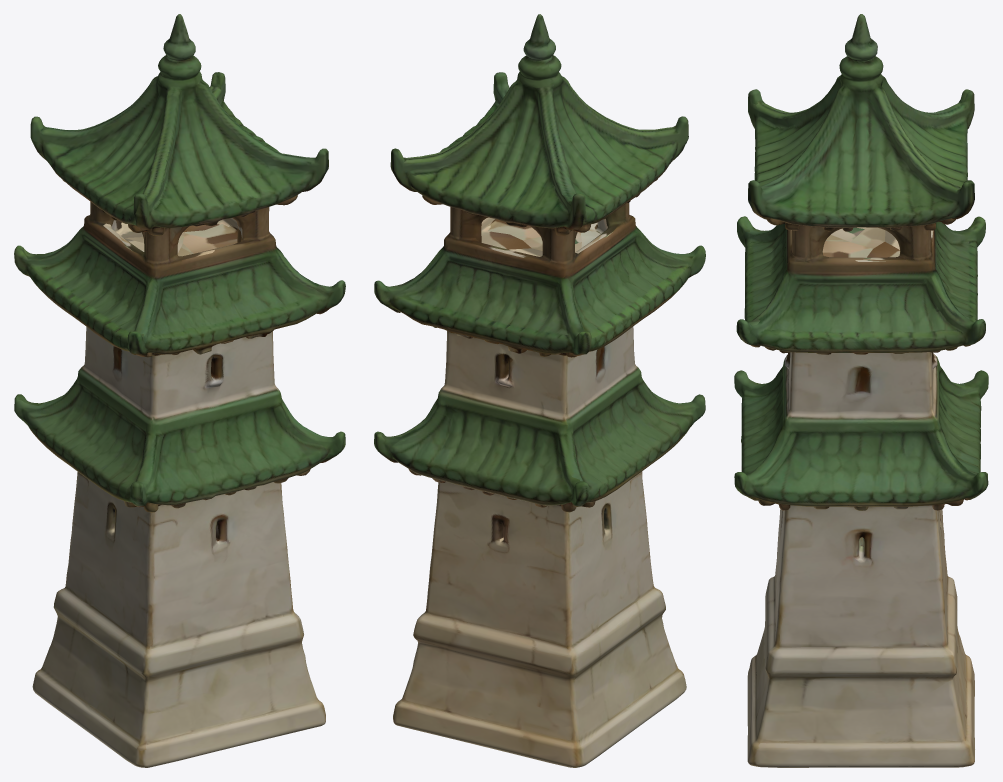
File: Air Nation Tower.glb
3 views of the same model, side by side, from view 1: azimuth 30°, elevation 25°; view 2: azimuth 150°, elevation 25°; view 3: azimuth 270°, elevation 25° (orthographic).
Parts seen in each view (by area): view 1: tripo_node_8c10615e-f381-4e10-8155-e889f2d7d8c3; view 2: tripo_node_8c10615e-f381-4e10-8155-e889f2d7d8c3; view 3: tripo_node_8c10615e-f381-4e10-8155-e889f2d7d8c3.
Boxes of the visible parts, box(x1,y1,x2,y2) form: tripo_node_8c10615e-f381-4e10-8155-e889f2d7d8c3: box(14, 14, 345, 767); tripo_node_8c10615e-f381-4e10-8155-e889f2d7d8c3: box(374, 14, 705, 767); tripo_node_8c10615e-f381-4e10-8155-e889f2d7d8c3: box(734, 14, 988, 767).
Bounding box in the file's own units: 0.3108 × 0.9489 × 0.3094.
Materials: 1 (1 with a texture image).
